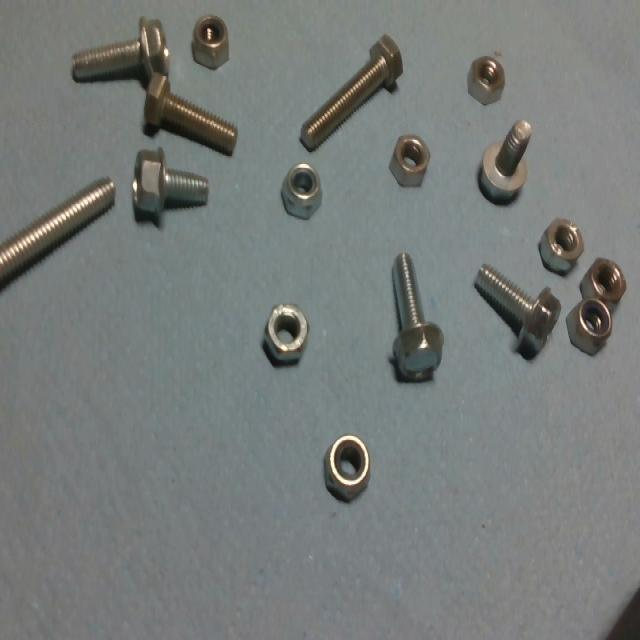Bolt: (0, 174, 121, 300), (296, 29, 408, 156), (468, 257, 566, 369), (139, 67, 244, 159), (383, 246, 445, 385), (66, 16, 174, 87), (133, 140, 213, 219), (474, 117, 536, 209)
Nut: (564, 282, 620, 362), (320, 430, 378, 506), (273, 157, 329, 225), (534, 214, 592, 276), (258, 299, 313, 364), (189, 9, 236, 72), (464, 49, 511, 109), (578, 254, 630, 308), (387, 129, 432, 191)
